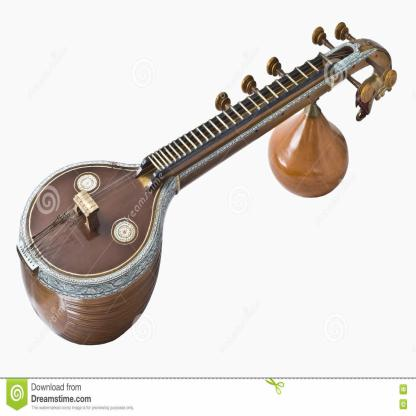Veena: (9, 90, 306, 283)
